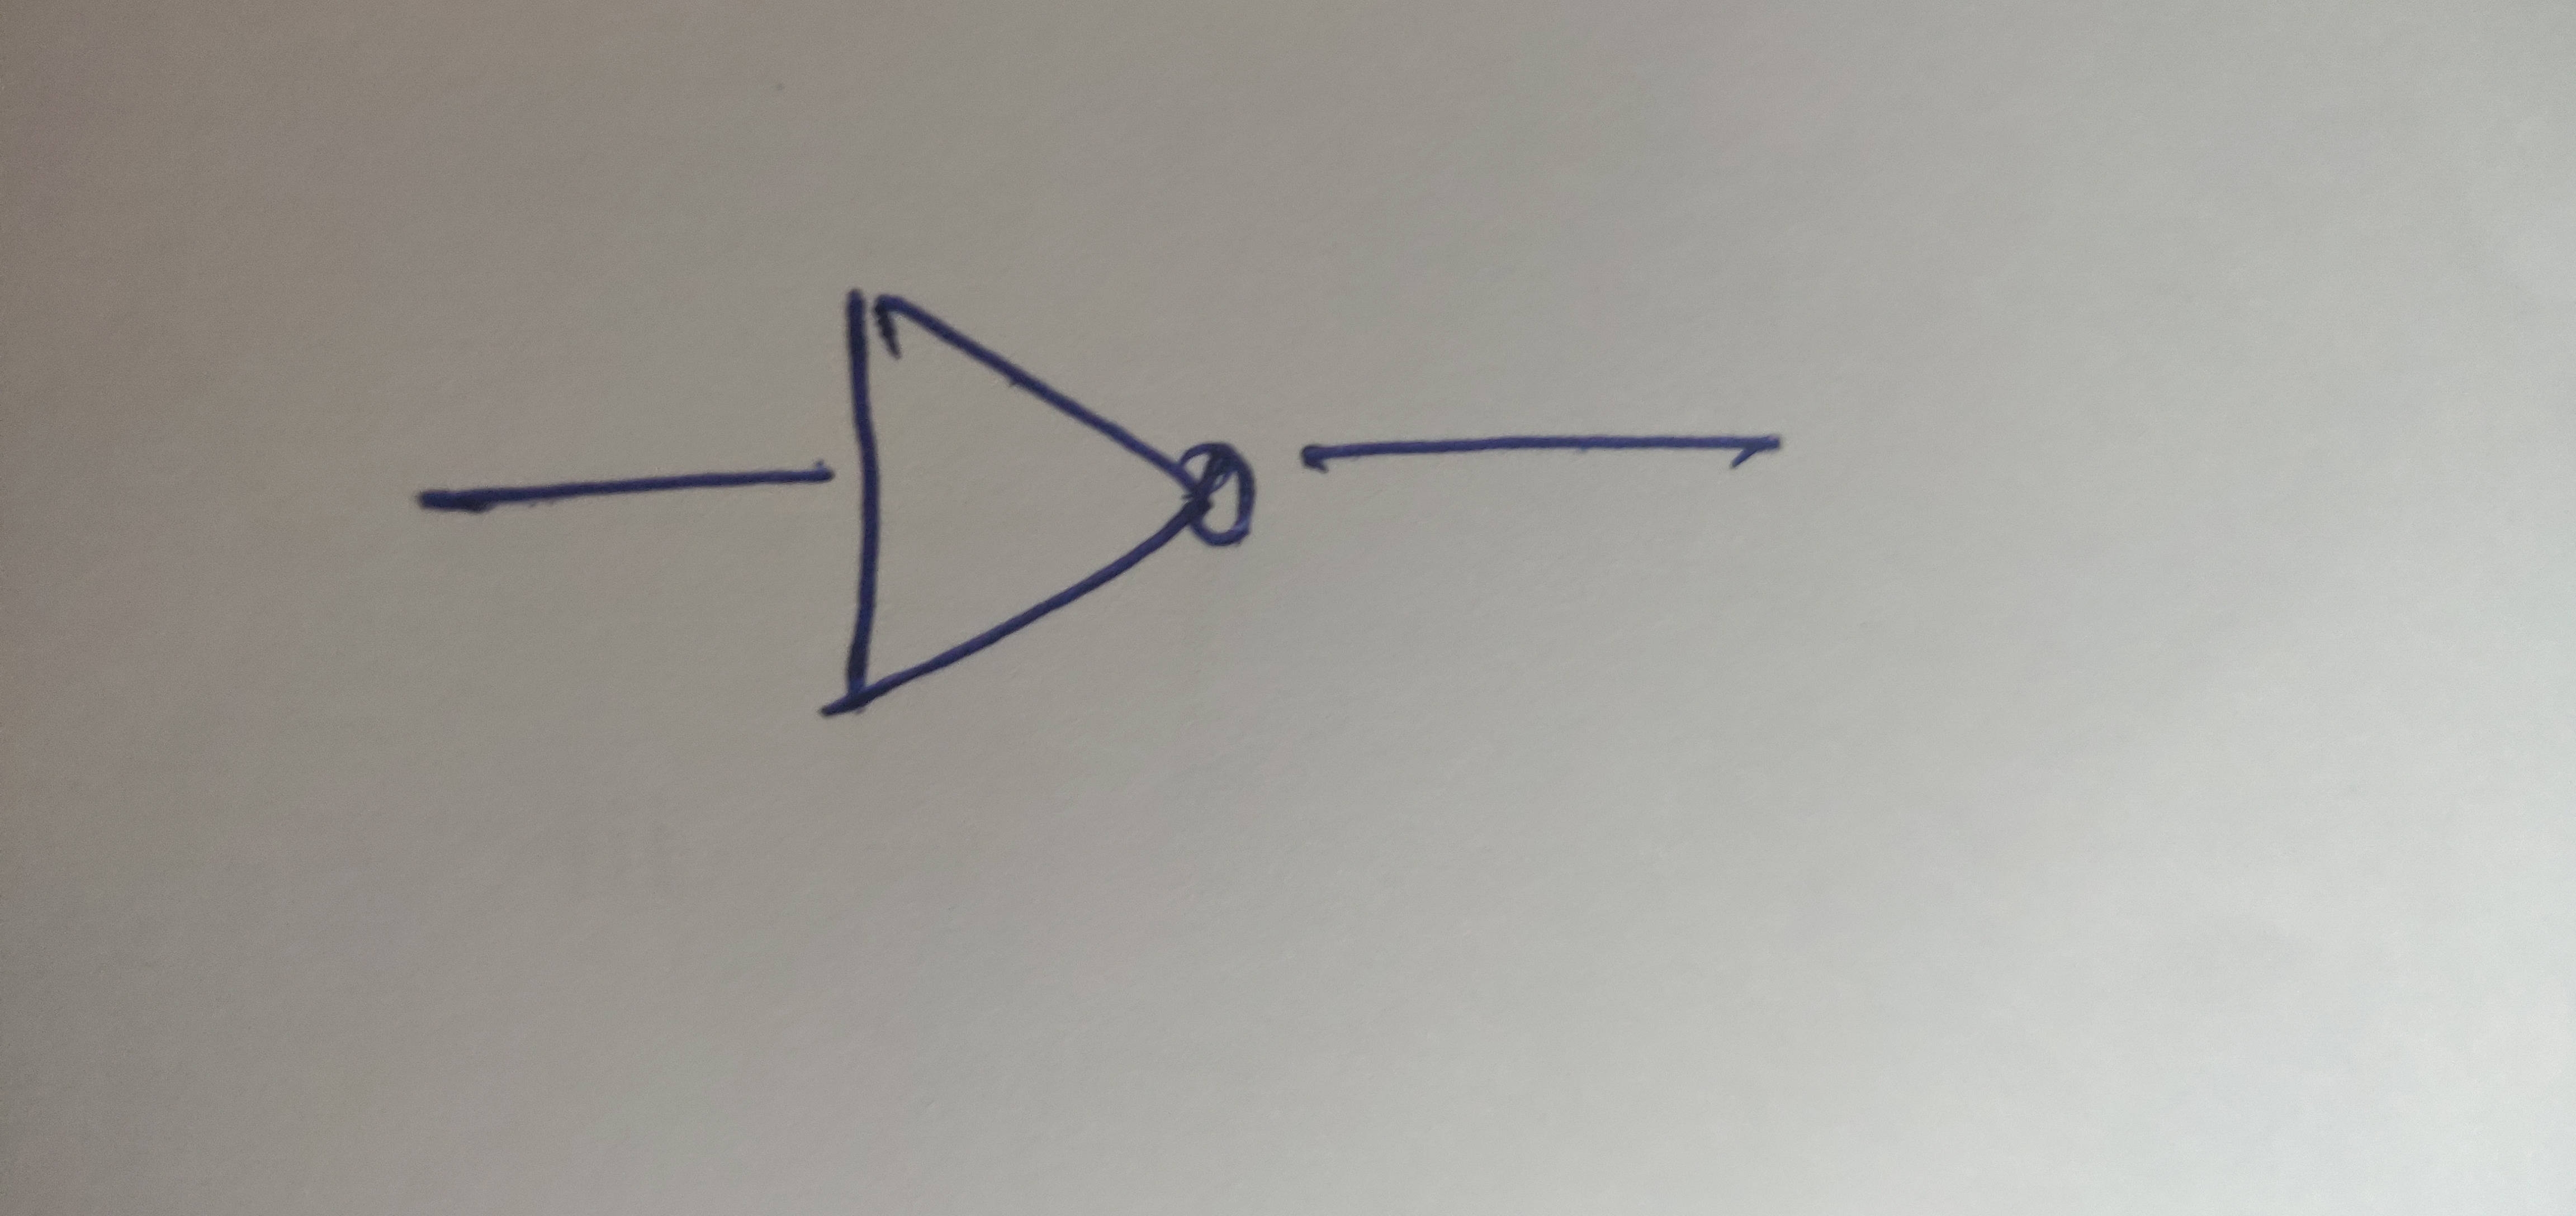not: (731, 237, 1413, 779)
